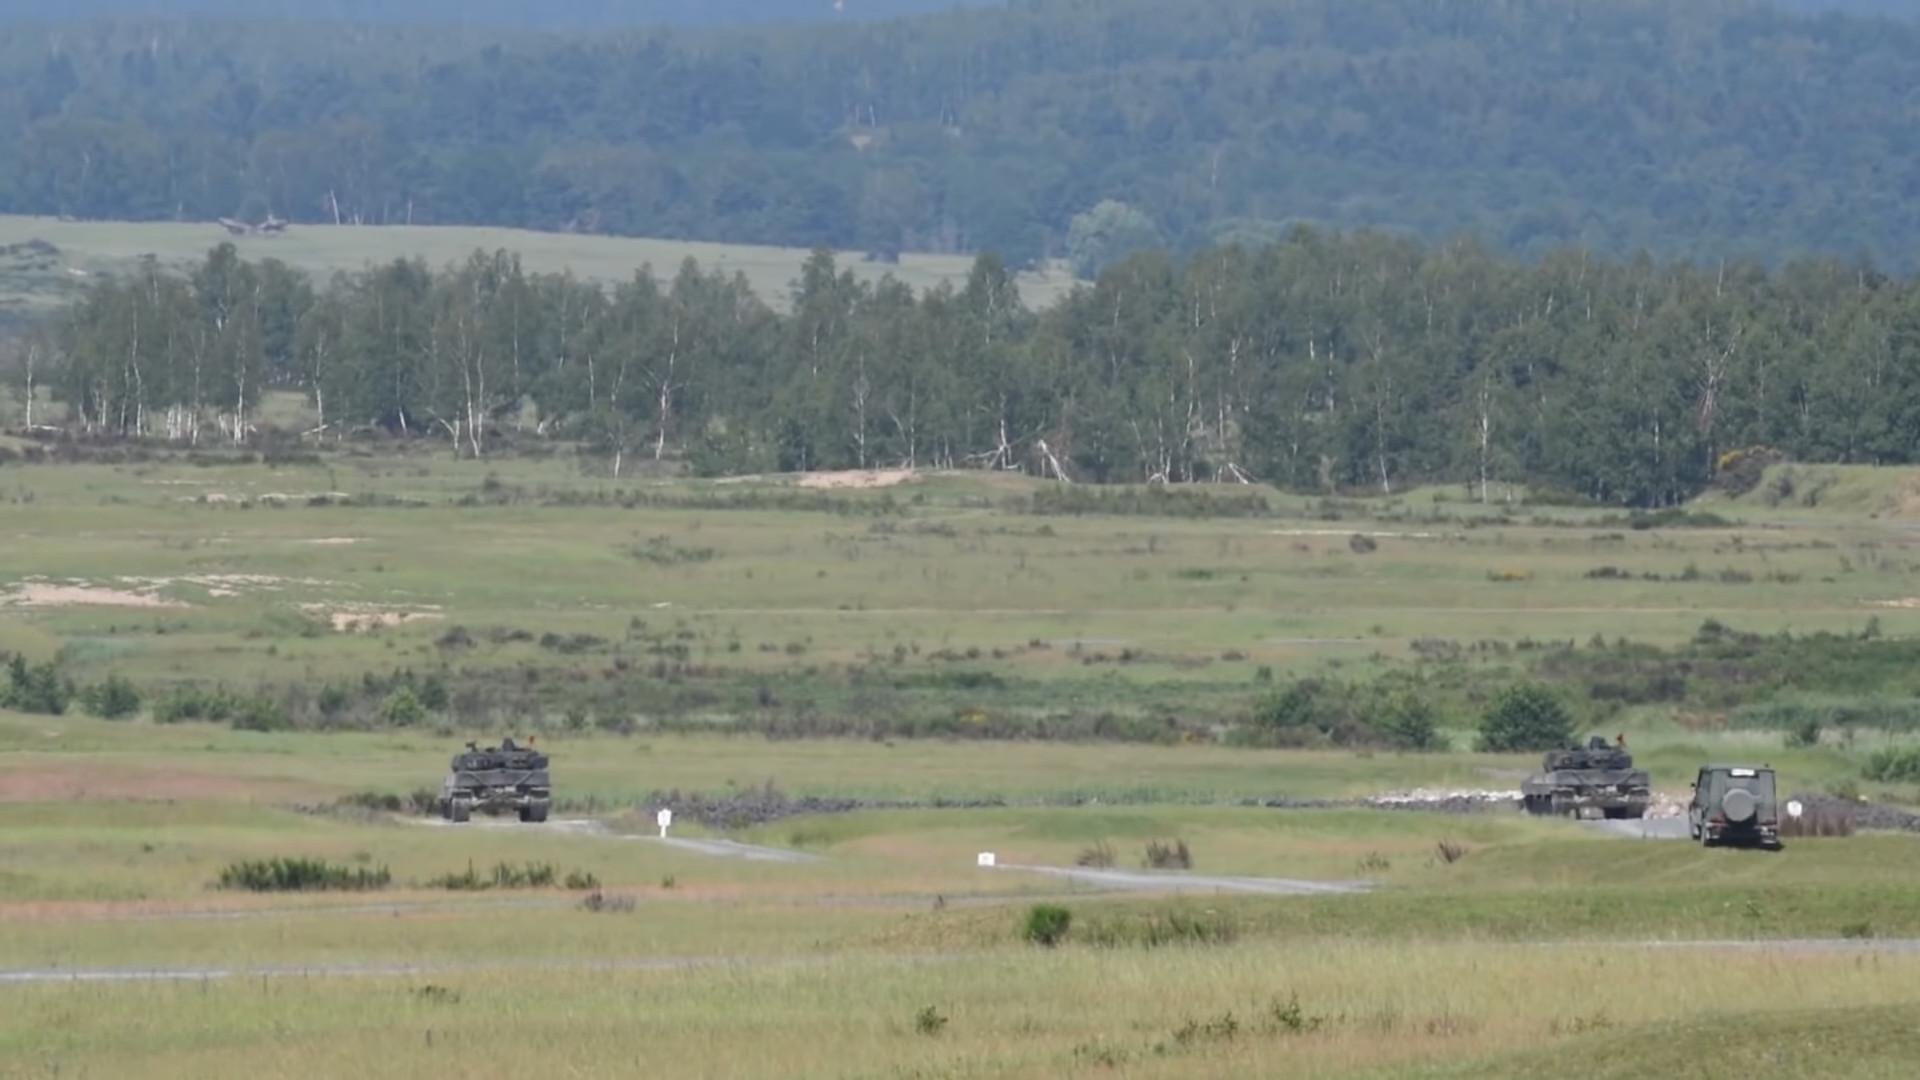tank: (1522, 749, 1648, 818), (439, 749, 549, 823)
